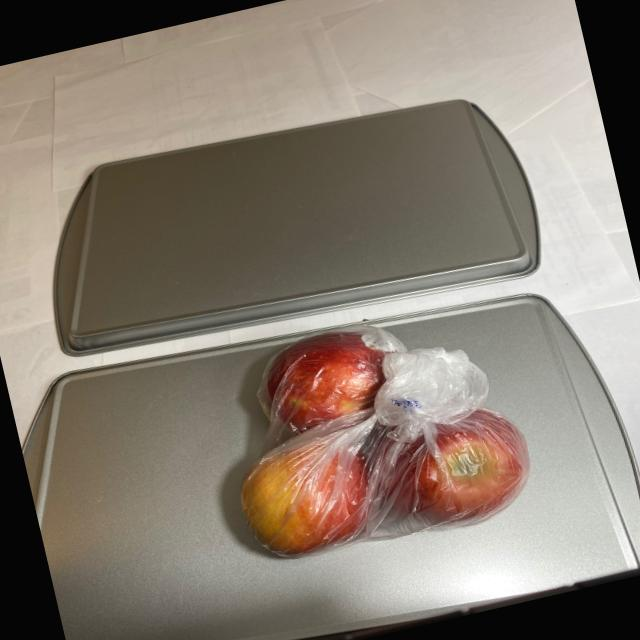apple: (195, 292, 541, 580)
